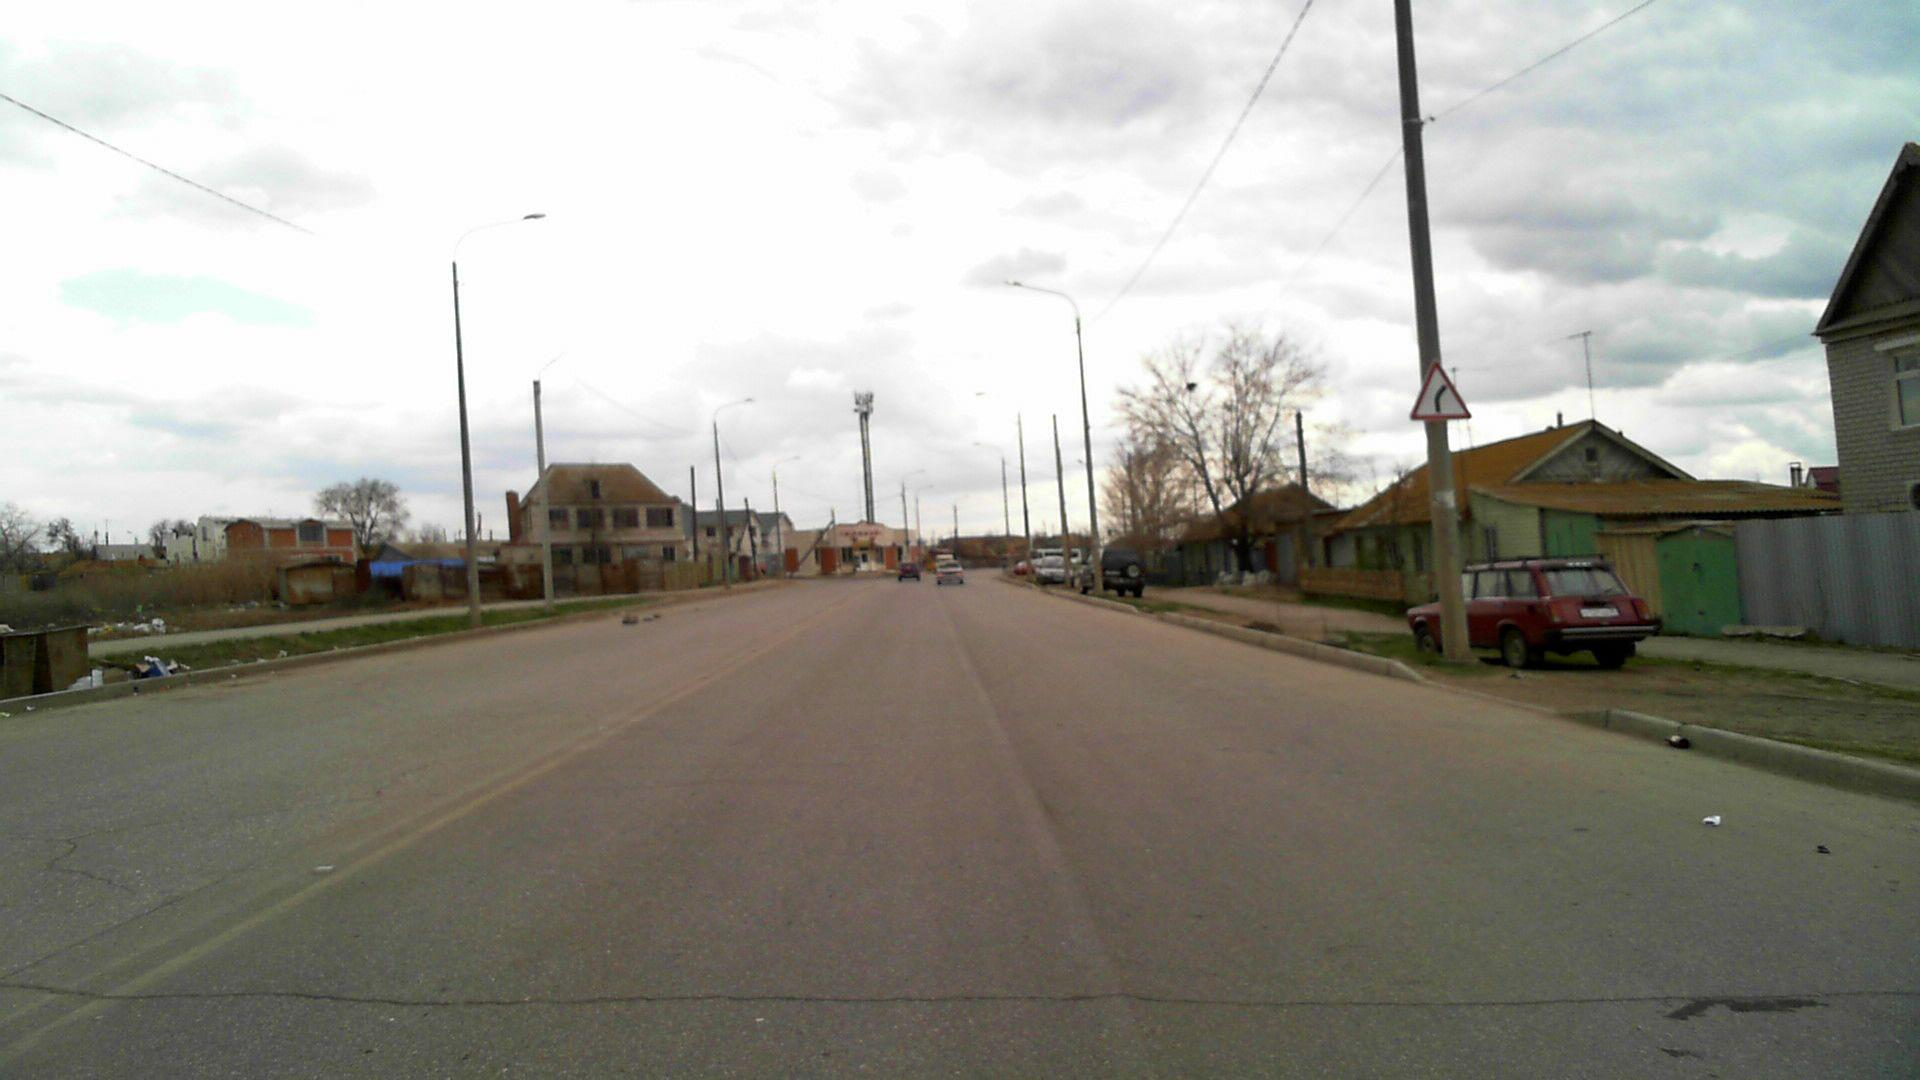1_11_1: (1406, 363, 1473, 423)
